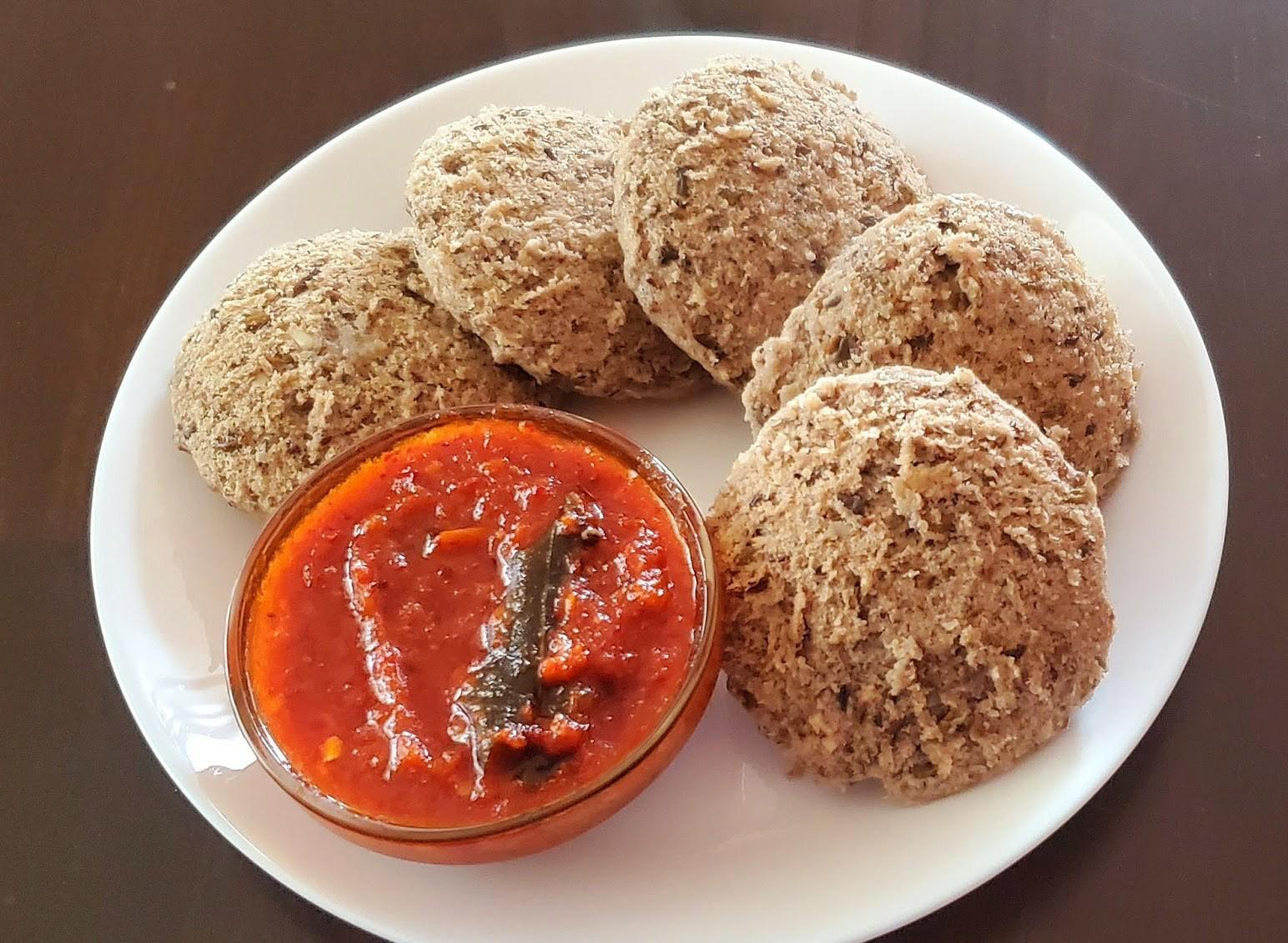Idli: (707, 367, 1109, 798), (746, 196, 1142, 503), (607, 61, 927, 394), (165, 231, 505, 515), (407, 102, 712, 404)
